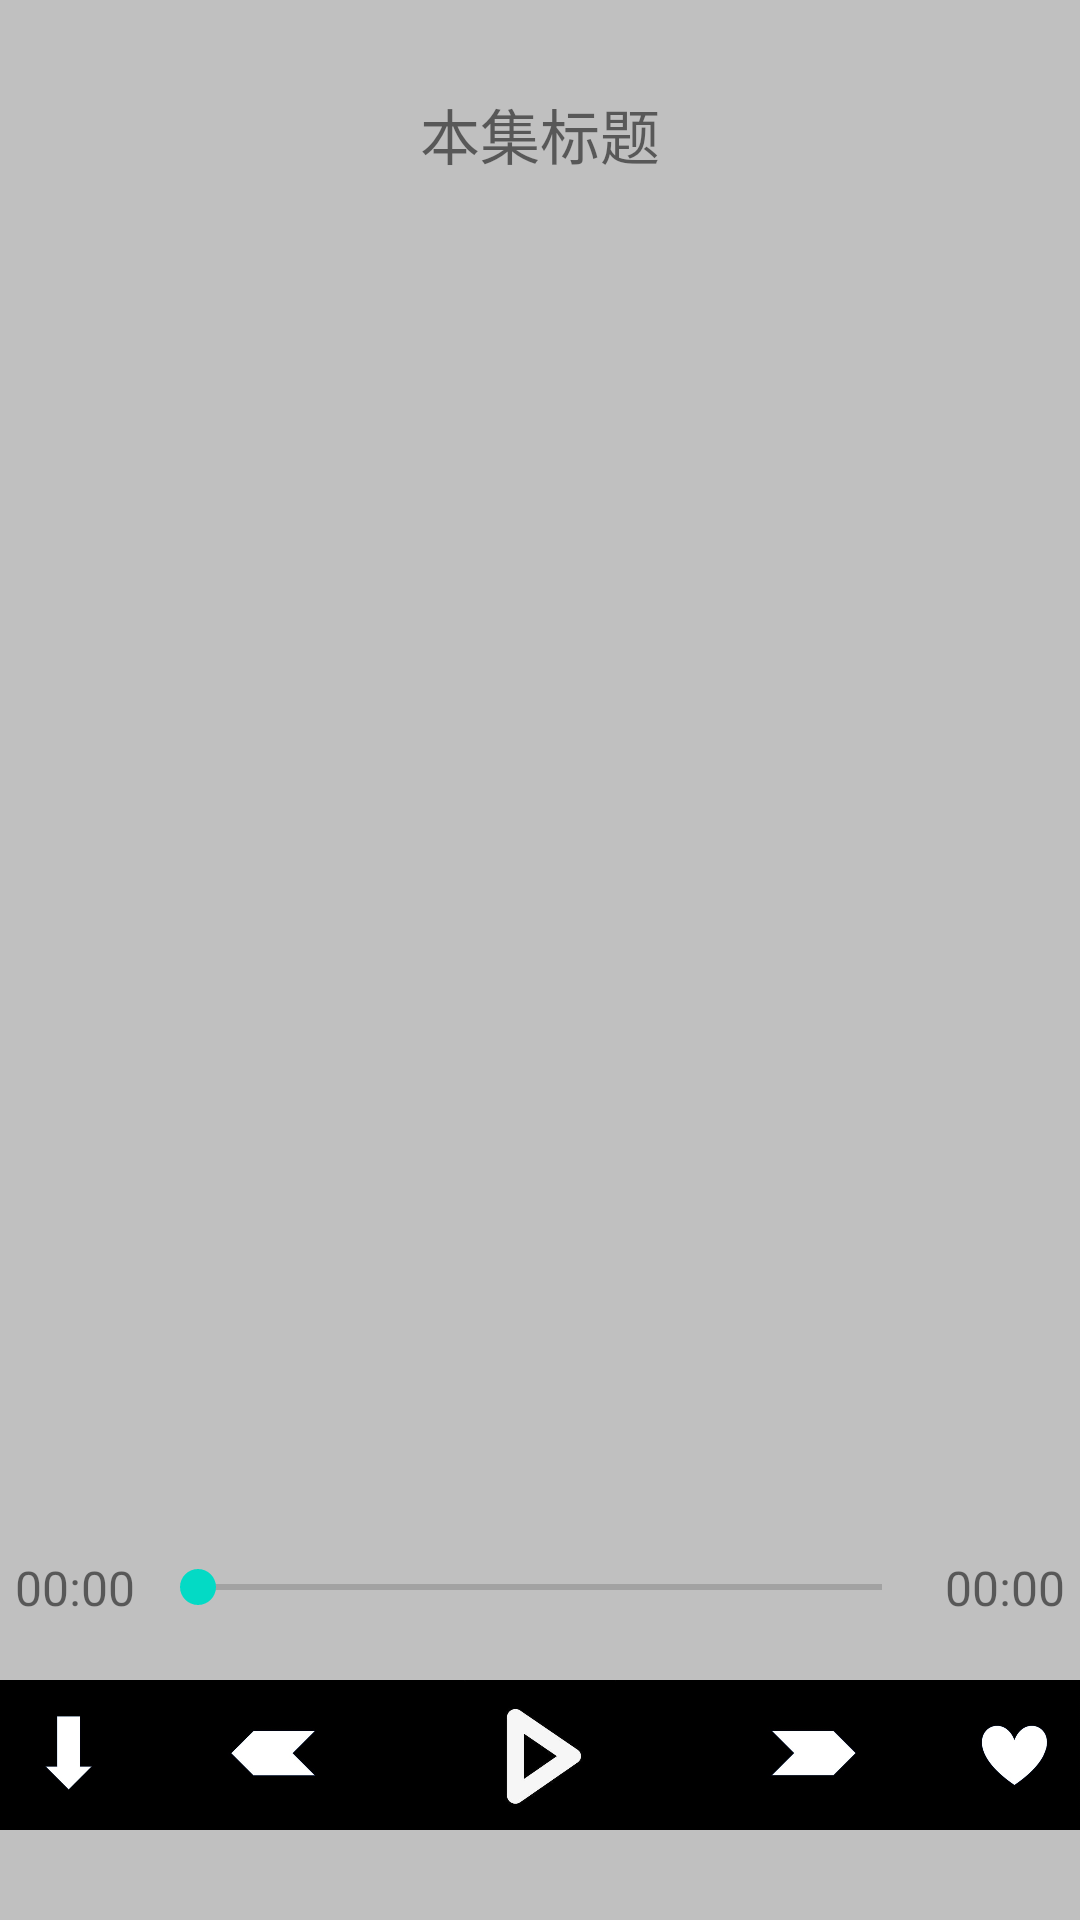

Icon bounding boxes for this 1080 x 1920 phone screenshot, format (x1, y1, x2, y2):
favor: (982, 1725, 1047, 1785)
play: (507, 1709, 581, 1804)
play next: (772, 1731, 856, 1776)
play pre: (231, 1731, 315, 1776)
